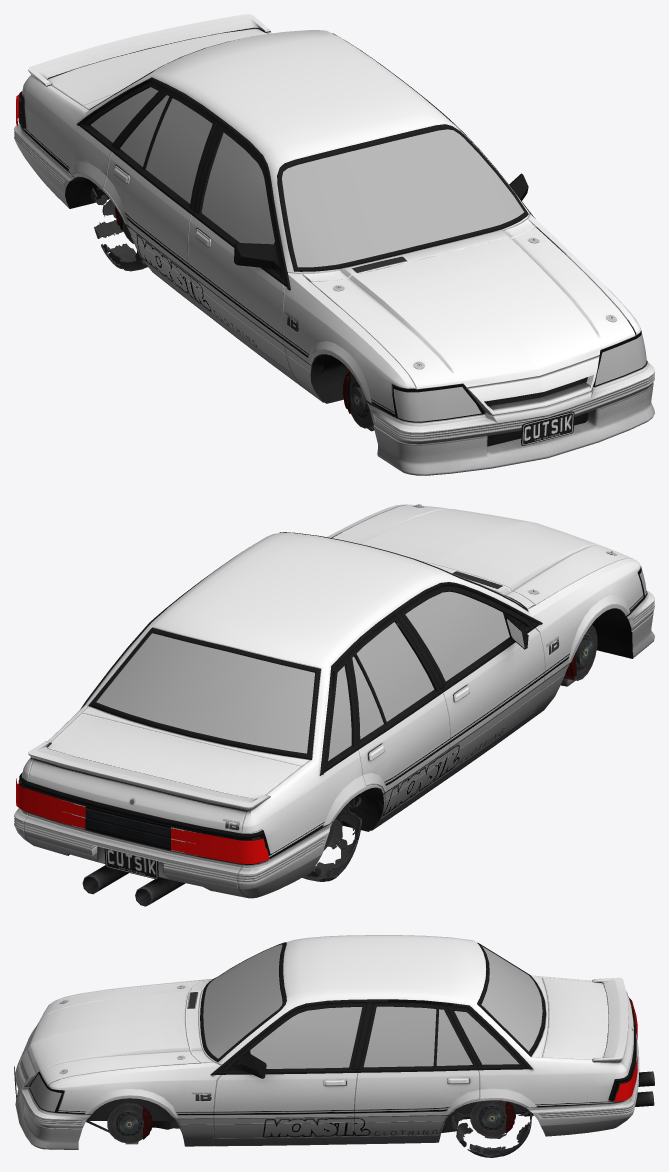
Rendered from 35_CutsikVK.fbx.
The picture shows the model from 3 angles, top to bottom: view 1: azimuth 30°, elevation 25°; view 2: azimuth 150°, elevation 25°; view 3: azimuth 270°, elevation 25°; orthographic projection. The views are drawn at different scales.
Visible parts, largest first — view 1: Body_Duco, Body_Glass, Kit_00_Duco, Body_Matte, Body_Plastic, NumberPlate (1), Rotor; view 2: Body_Duco, Body_Glass, Body_Matte, Kit_00_Duco, Body_Plastic, BrakeLights, NumberPlate, Rotor; view 3: Body_Duco, Body_Glass, Kit_00_Duco, Body_Matte, Body_Plastic, Rotor (×2), BrakeLights.
Boxes of the visible parts, x1=… form: Body_Duco: x1=18, y1=14, x2=640, y2=416; Body_Glass: x1=91, y1=87, x2=646, y2=421; Kit_00_Duco: x1=310, y1=227, x2=635, y2=389; Body_Matte: x1=65, y1=33, x2=645, y2=446; Body_Plastic: x1=14, y1=123, x2=654, y2=475; NumberPlate (1): x1=521, y1=411, x2=574, y2=445; Rotor: x1=349, y1=372, x2=373, y2=428; Body_Duco: x1=18, y1=504, x2=643, y2=864; Body_Glass: x1=96, y1=569, x2=646, y2=760; Body_Matte: x1=81, y1=532, x2=645, y2=906; Kit_00_Duco: x1=332, y1=504, x2=632, y2=605; Body_Plastic: x1=14, y1=590, x2=654, y2=898; BrakeLights: x1=16, y1=778, x2=269, y2=863; NumberPlate: x1=104, y1=848, x2=158, y2=879; Rotor: x1=574, y1=624, x2=597, y2=680; Body_Duco: x1=17, y1=935, x2=636, y2=1146; Body_Glass: x1=30, y1=944, x2=542, y2=1111; Kit_00_Duco: x1=27, y1=981, x2=200, y2=1085; Body_Matte: x1=29, y1=942, x2=654, y2=1144; Body_Plastic: x1=15, y1=1034, x2=639, y2=1149; Rotor (×2): x1=107, y1=1100, x2=506, y2=1143; BrakeLights: x1=614, y1=999, x2=637, y2=1101.
Size of what is drawn, in the model's own units: 1.86 by 1.31 by 4.76.
